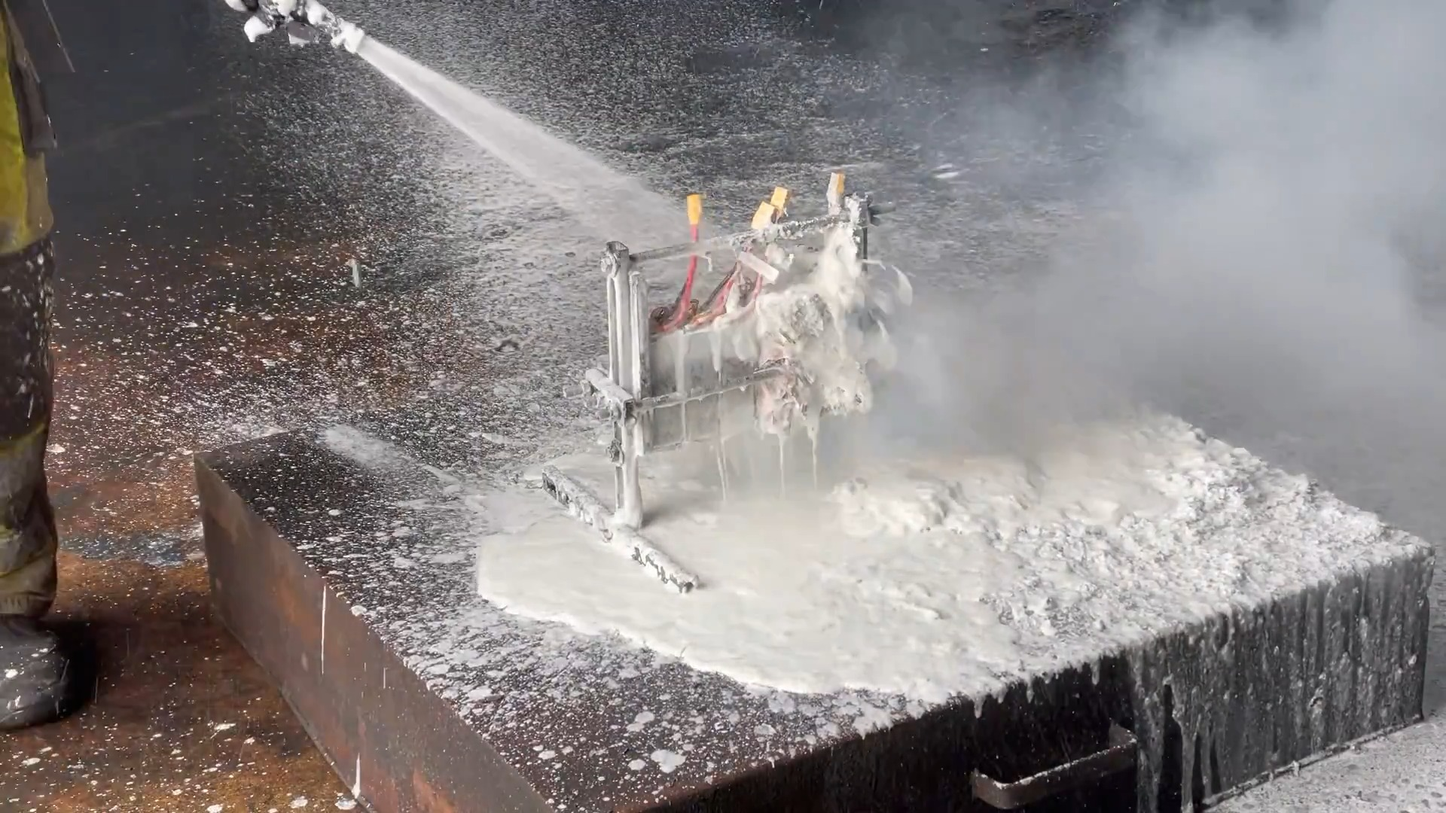smoke: (875, 0, 1446, 462)
